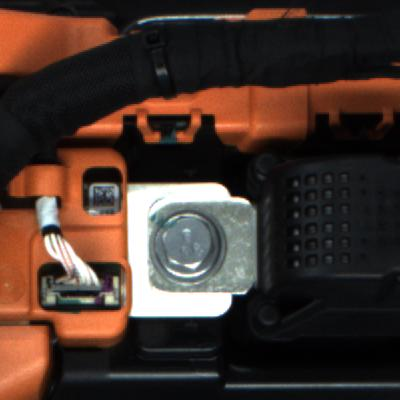nut_b: (147, 208, 229, 286)
